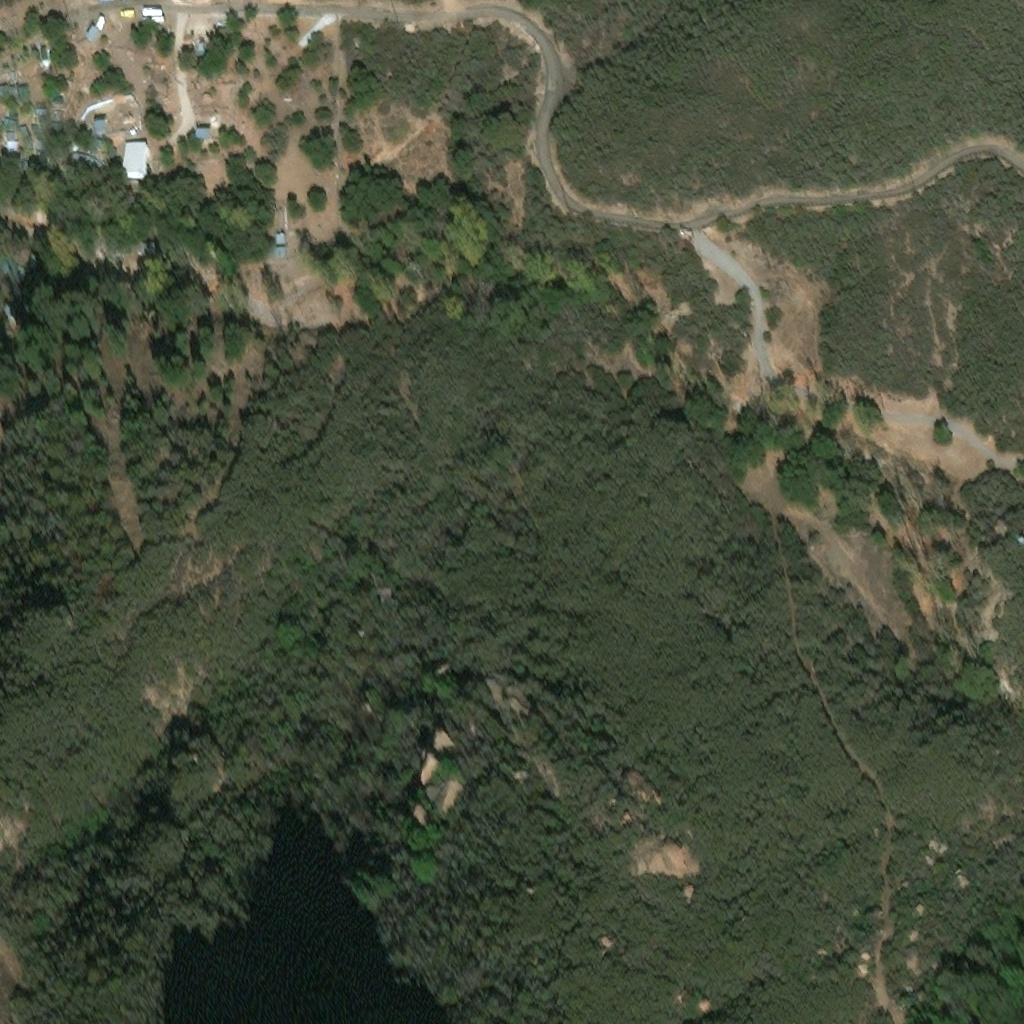0 no-damage: (123, 146, 149, 183), (139, 239, 157, 256), (86, 29, 102, 46), (18, 84, 30, 103), (0, 116, 16, 130), (19, 125, 30, 143), (196, 133, 212, 145), (6, 138, 18, 154), (0, 85, 14, 98), (52, 98, 64, 112), (34, 108, 49, 119), (197, 45, 207, 61), (274, 232, 286, 244), (273, 245, 286, 256), (5, 110, 18, 121), (30, 123, 43, 132), (9, 70, 18, 80), (6, 130, 14, 138), (13, 85, 18, 96)
4 un-classified: (69, 151, 108, 174), (93, 122, 108, 141), (4, 272, 17, 285), (143, 11, 164, 19), (34, 157, 46, 170), (144, 21, 166, 28), (18, 157, 29, 168), (1, 281, 12, 292), (0, 290, 10, 302), (129, 199, 138, 211), (98, 142, 106, 151), (114, 161, 122, 169), (198, 61, 206, 69), (109, 150, 115, 160)
